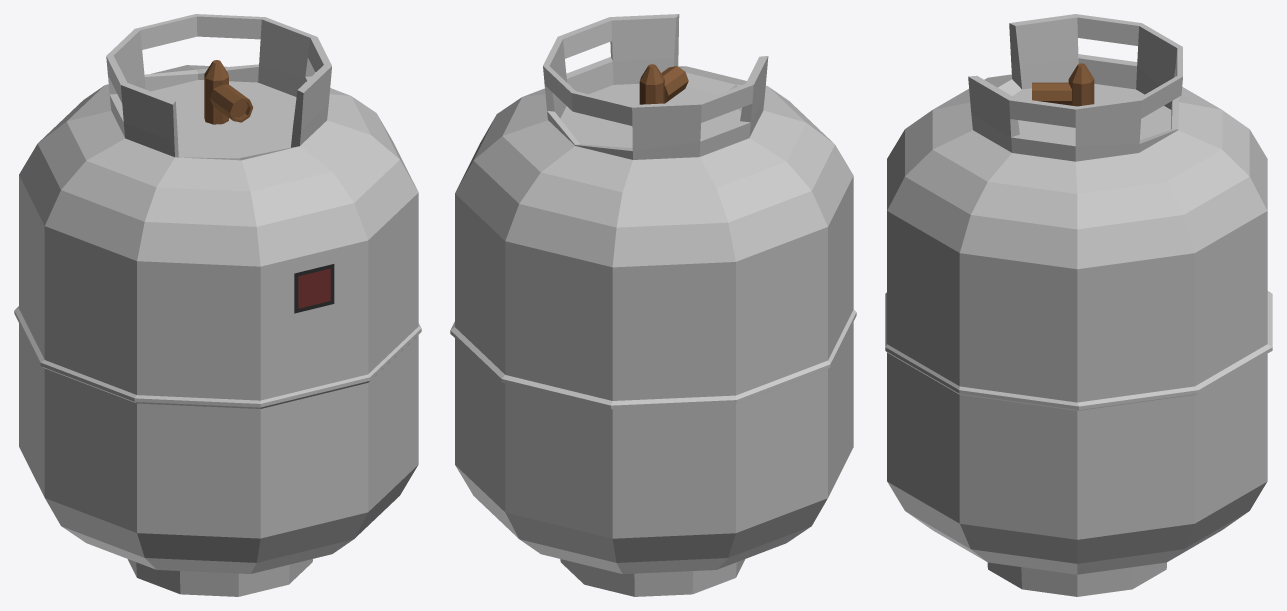
Rendered from Propane Tank.glb.
3 renders of one model, left to right at view 1: azimuth 30°, elevation 25°; view 2: azimuth 150°, elevation 25°; view 3: azimuth 270°, elevation 25°, orthographic.
Parts seen in each view (by area): view 1: PropaneTank; view 2: PropaneTank; view 3: PropaneTank.
Boxes of the visible parts, x1=… form: PropaneTank: x1=14, y1=14, x2=421, y2=596; PropaneTank: x1=450, y1=14, x2=856, y2=596; PropaneTank: x1=885, y1=14, x2=1272, y2=596.
Bounding box in the file's own units: 2.16 × 2.89 × 2.05.
